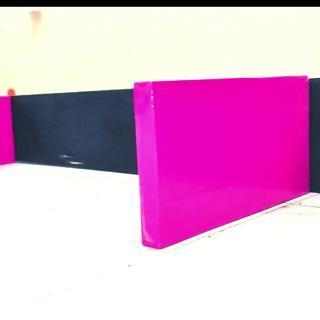xparking: (141, 85, 307, 219), (0, 98, 10, 164)
